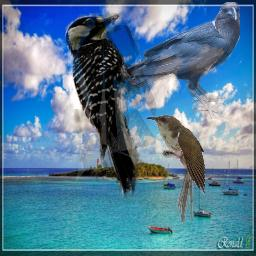Crow: (110, 2, 240, 119)
Cuckoo: (146, 114, 205, 222)
Woodpecker: (64, 13, 156, 201)
